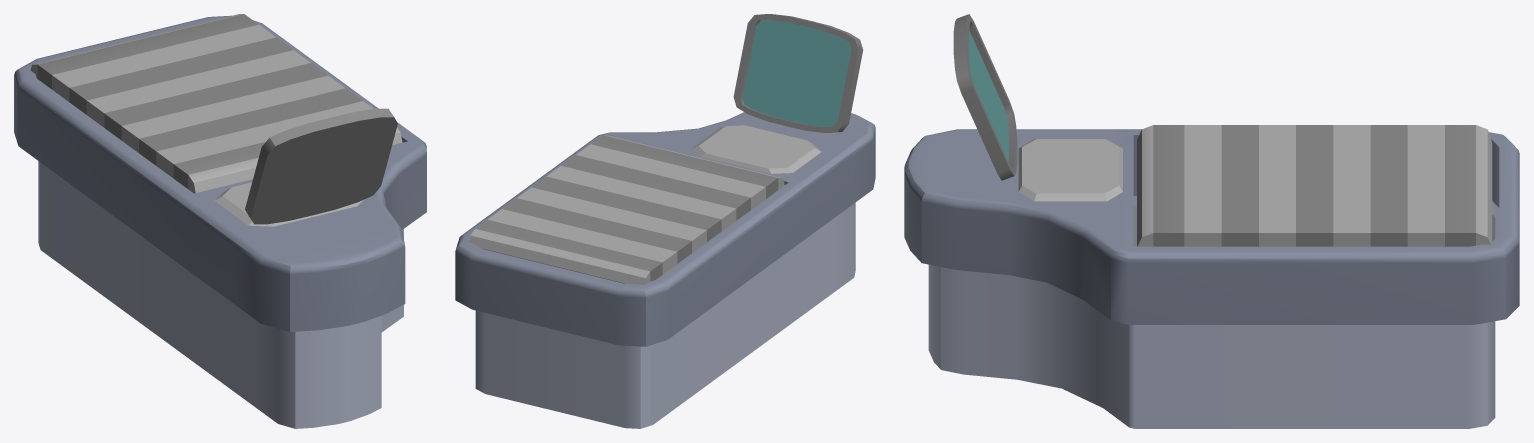
File: CheckOutRight.fbx
3 renders of one model, left to right at view 1: azimuth 30°, elevation 25°; view 2: azimuth 150°, elevation 25°; view 3: azimuth 270°, elevation 25°, orthographic. The views are drawn at different scales.
Visible parts, largest first — view 1: Main, ConveyorBelt, Monitor, Plate; view 2: Main, ConveyorBelt, Monitor, Plate; view 3: Main, ConveyorBelt, Plate, Monitor.
Boxes of the visible parts, left/top/right/bottom form: Main: left=14, top=15, right=426, bottom=428; ConveyorBelt: left=30, top=14, right=402, bottom=193; Monitor: left=245, top=108, right=397, bottom=224; Plate: left=214, top=182, right=364, bottom=226; Main: left=455, top=112, right=875, bottom=428; ConveyorBelt: left=469, top=135, right=784, bottom=285; Monitor: left=733, top=14, right=863, bottom=132; Plate: left=692, top=125, right=821, bottom=173; Main: left=904, top=129, right=1519, bottom=428; ConveyorBelt: left=1137, top=125, right=1492, bottom=246; Plate: left=1018, top=139, right=1122, bottom=201; Monitor: left=953, top=14, right=1017, bottom=180.
Bounding box in the file's own units: 1.5 × 1.69 × 3.03.
